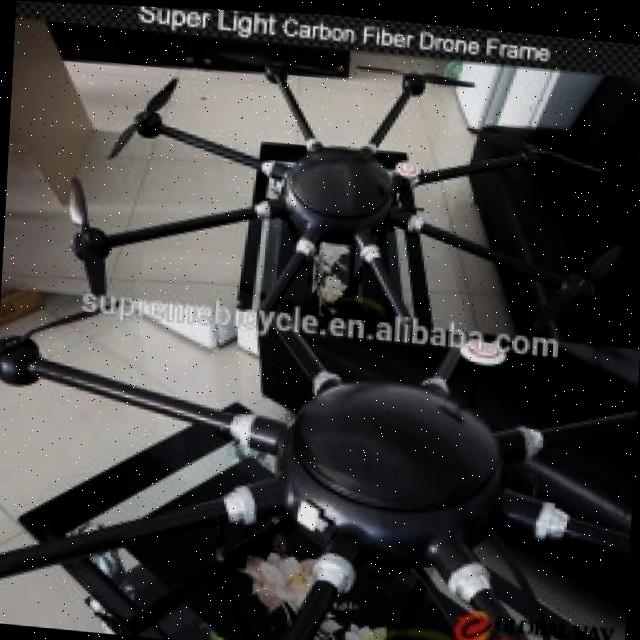drone: (0, 293, 638, 640), (45, 43, 640, 411)
